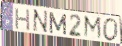2: (68, 14, 83, 39)
H: (15, 7, 31, 32)
M: (83, 15, 104, 42), (48, 11, 68, 37)
N: (32, 9, 49, 34)
O: (102, 18, 119, 43)
